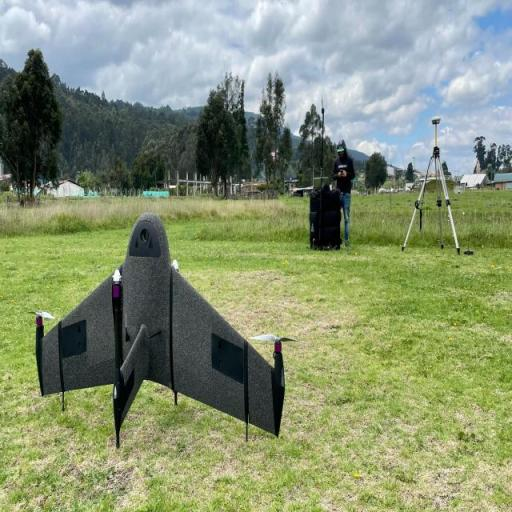uav: (18, 211, 300, 453)
